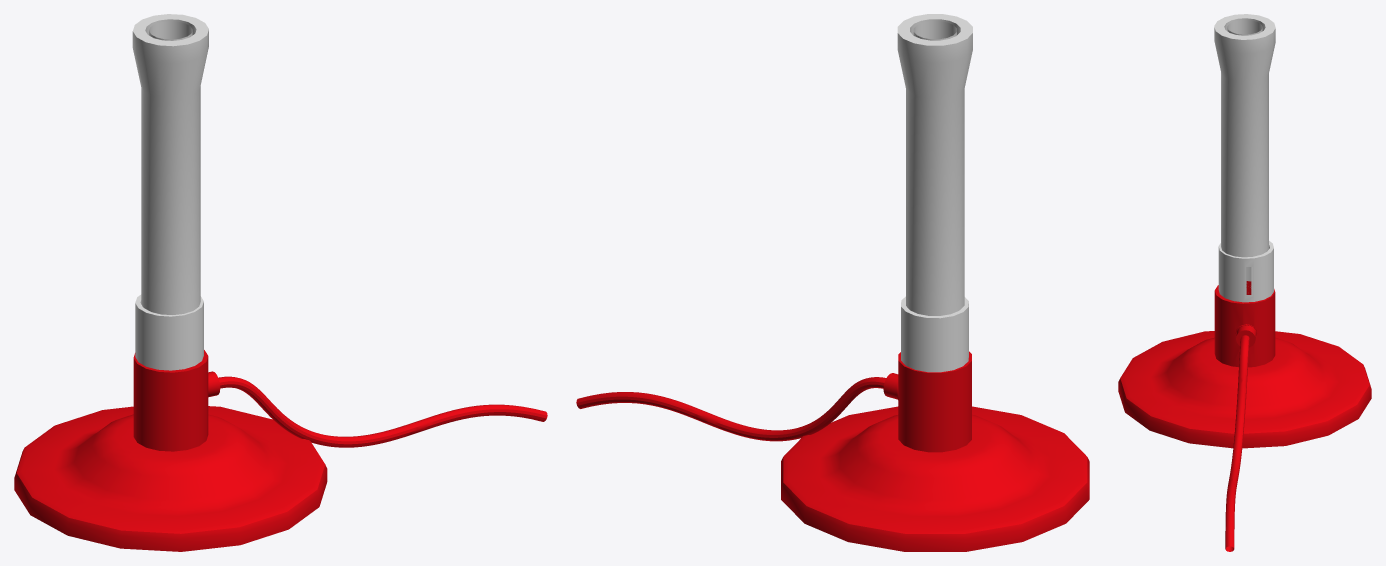
Rendered from Bunsen Burner.fbx.
3 views of the same model, side by side, from view 1: azimuth 30°, elevation 25°; view 2: azimuth 150°, elevation 25°; view 3: azimuth 270°, elevation 25° (orthographic). The views are drawn at different scales.
Parts seen in each view (by area): view 1: bunsun burner; view 2: bunsun burner; view 3: bunsun burner.
Part boxes in pixels (x1,y1,x2,y2): bunsun burner: (14,14,547,551); bunsun burner: (576,14,1089,551); bunsun burner: (1118,14,1371,551).
Size of the model in its own units: 31.61 by 28.49 by 17.09.
